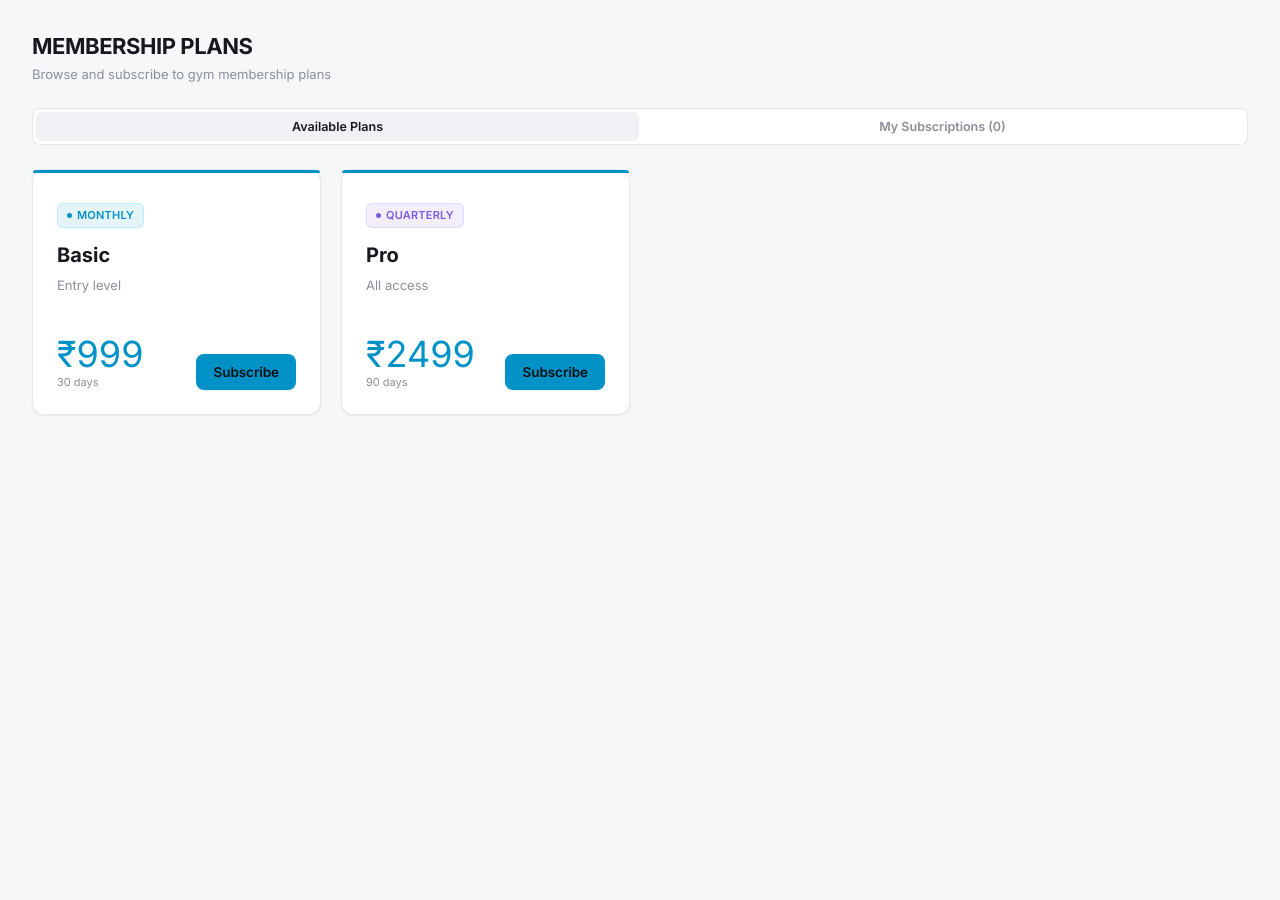
MemberPlans — payment modal › button switches to Online label when Online selected
This screenshot has width=1280, height=900.
Click the button "Subscribe" next to "999".
click(246, 372)  # box [196,354,296,390]
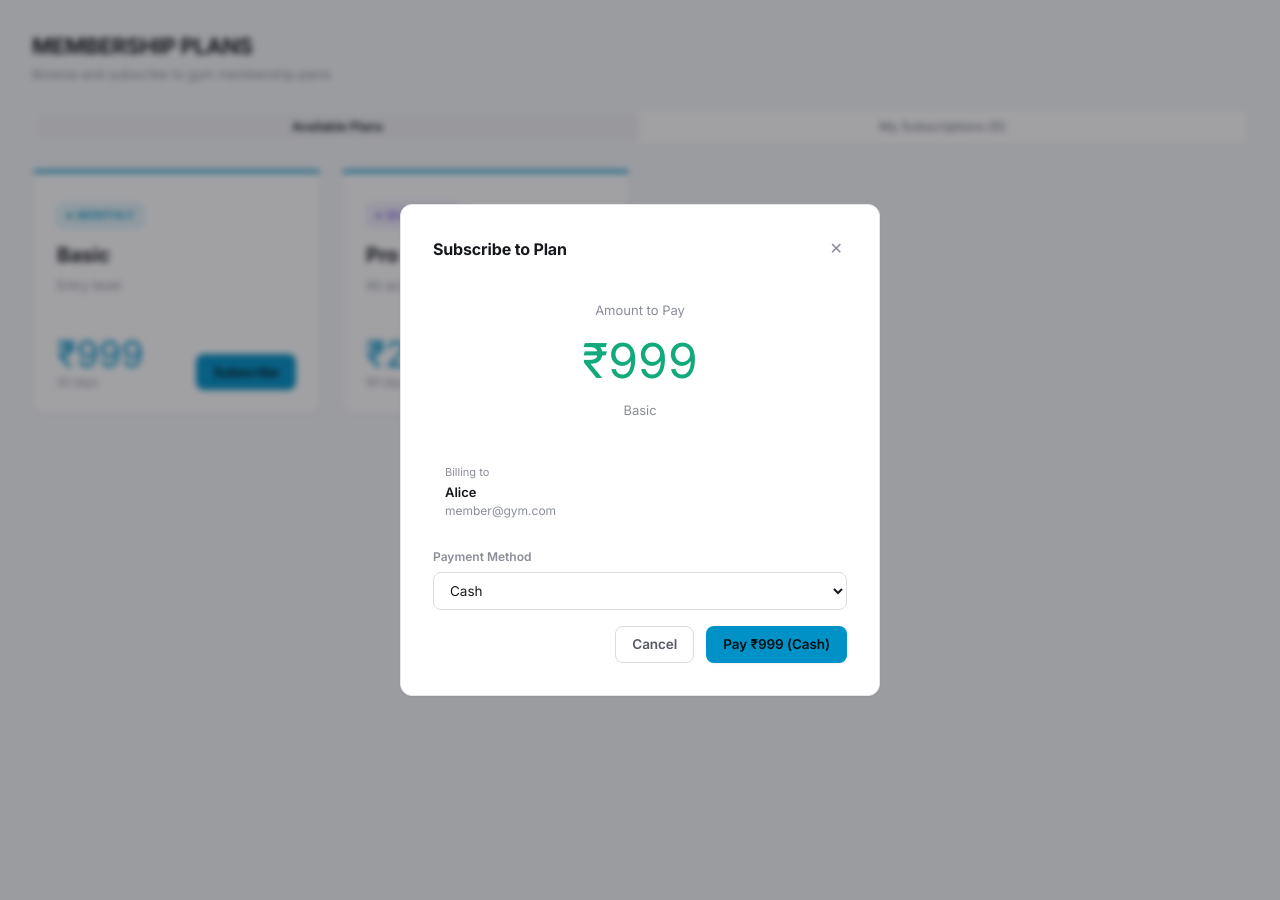
Result: the text "Subscribe to Plan" is shown at [433,237,567,261]
Select "Online (UPI / Card / Net Banking)" in the dropdown at [640, 591], box [433,572,847,610]
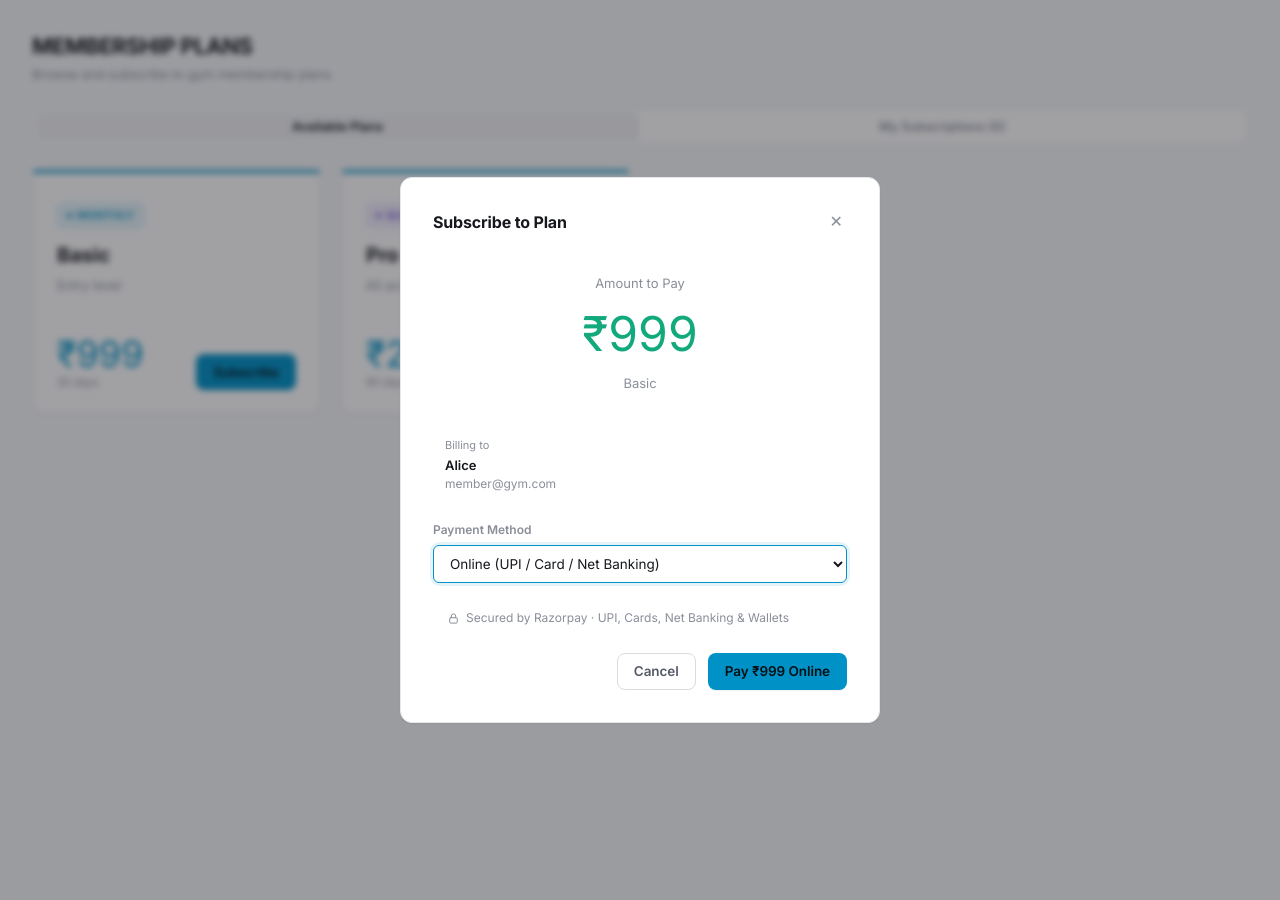
Result: the button "Pay ₹999 Online" is shown at [708,653,847,690]
